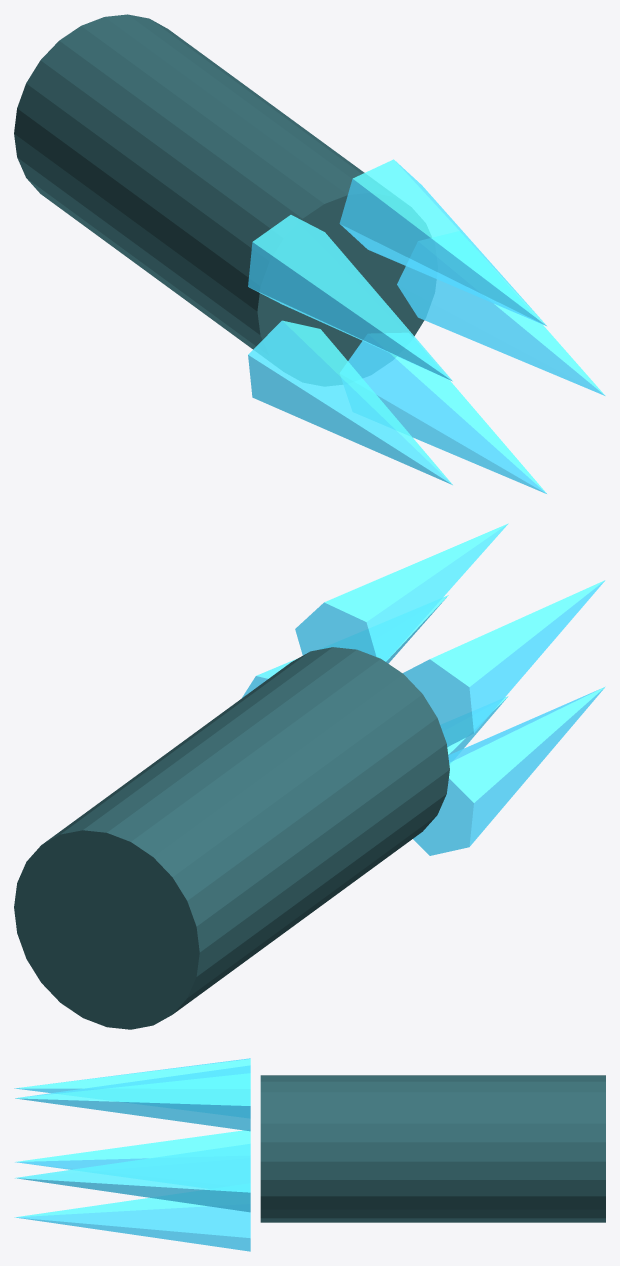
The model's file is 16_Crystal_Choir_Column.glb.
3 renders of one model, top to bottom at view 1: azimuth 30°, elevation 25°; view 2: azimuth 150°, elevation 25°; view 3: azimuth 270°, elevation 25°, orthographic. The views are drawn at different scales.
Parts seen in each view (by area): view 1: 16_Crystal_Choir_Column_00, 16_Crystal_Choir_Column_04, 16_Crystal_Choir_Column_02, 16_Crystal_Choir_Column_03, 16_Crystal_Choir_Column_05, 16_Crystal_Choir_Column_01; view 2: 16_Crystal_Choir_Column_00, 16_Crystal_Choir_Column_03, 16_Crystal_Choir_Column_02, 16_Crystal_Choir_Column_04, 16_Crystal_Choir_Column_01; view 3: 16_Crystal_Choir_Column_00, 16_Crystal_Choir_Column_01, 16_Crystal_Choir_Column_02, 16_Crystal_Choir_Column_05, 16_Crystal_Choir_Column_04, 16_Crystal_Choir_Column_03.
Part boxes in pixels (box(x1,y1,x2,y2)): 16_Crystal_Choir_Column_00: box(14, 14, 424, 360); 16_Crystal_Choir_Column_04: box(248, 320, 452, 484); 16_Crystal_Choir_Column_02: box(339, 159, 547, 326); 16_Crystal_Choir_Column_03: box(248, 215, 452, 381); 16_Crystal_Choir_Column_05: box(348, 341, 546, 493); 16_Crystal_Choir_Column_01: box(397, 266, 605, 395); 16_Crystal_Choir_Column_00: box(14, 647, 449, 1029); 16_Crystal_Choir_Column_03: box(402, 580, 605, 746); 16_Crystal_Choir_Column_02: box(295, 523, 508, 661); 16_Crystal_Choir_Column_04: box(413, 686, 605, 855); 16_Crystal_Choir_Column_01: box(242, 595, 448, 697); 16_Crystal_Choir_Column_00: box(260, 1075, 605, 1222); 16_Crystal_Choir_Column_01: box(15, 1143, 250, 1212); 16_Crystal_Choir_Column_02: box(15, 1065, 250, 1131); 16_Crystal_Choir_Column_05: box(14, 1197, 250, 1251); 16_Crystal_Choir_Column_04: box(15, 1130, 250, 1169); 16_Crystal_Choir_Column_03: box(14, 1058, 250, 1092).
Size of the model in its own units: 1.94 by 2 by 6.
